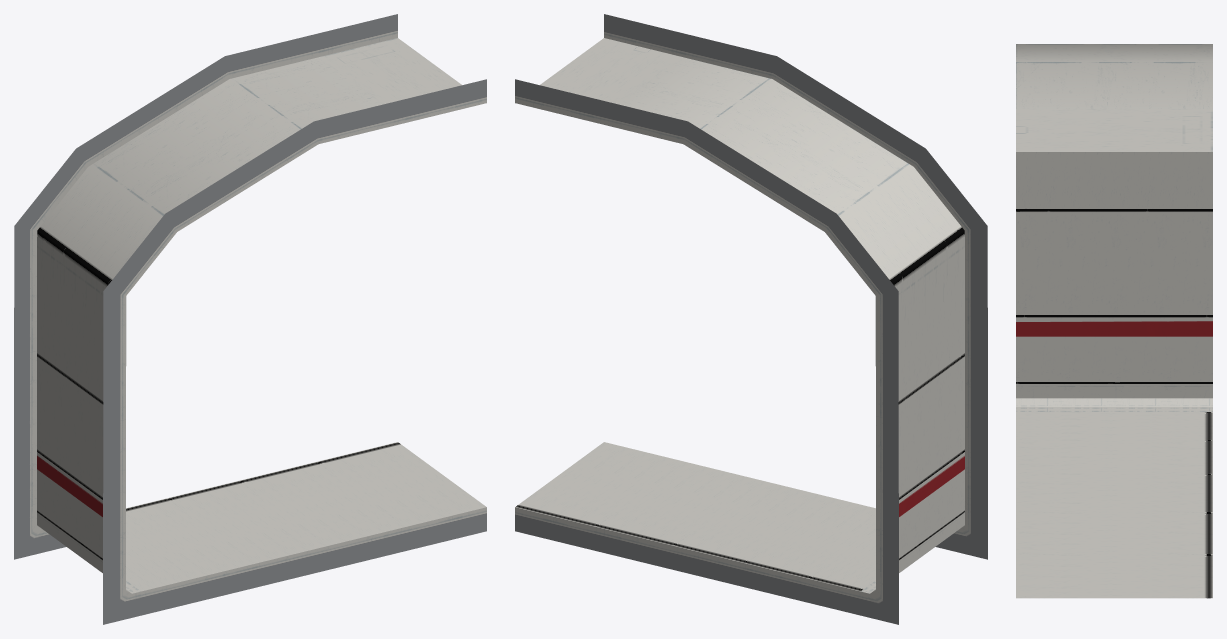
Rendered from G_Env_Arch_Corridor_00_Half.fbx.
3 renders of one model, left to right at view 1: azimuth 30°, elevation 25°; view 2: azimuth 150°, elevation 25°; view 3: azimuth 270°, elevation 25°, orthographic. The views are drawn at different scales.
Parts seen in each view (by area): view 1: G_Env_Arch_Corridor_00_Half; view 2: G_Env_Arch_Corridor_00_Half; view 3: G_Env_Arch_Corridor_00_Half.
Boxes of the visible parts, <box> form: G_Env_Arch_Corridor_00_Half: <box>14,14,486,624</box>; G_Env_Arch_Corridor_00_Half: <box>515,14,987,624</box>; G_Env_Arch_Corridor_00_Half: <box>1016,44,1212,598</box>.
Size of the model in its own units: 1241 by 1397 by 499.
